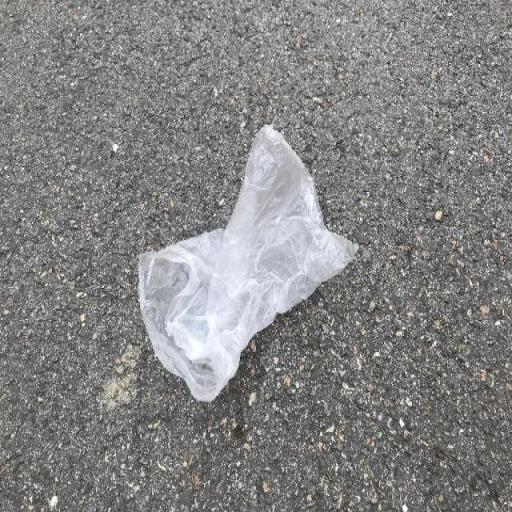plastic-bag: (134, 120, 364, 404)
